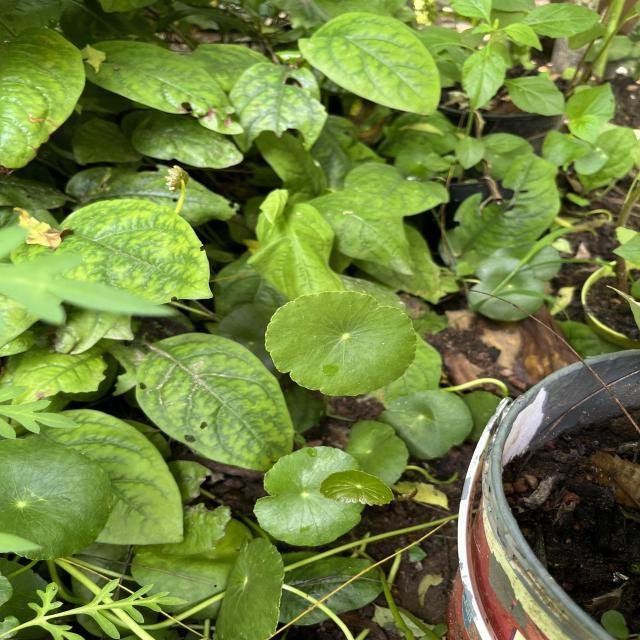Bacopa monnieri: (262, 288, 419, 398), (0, 435, 116, 563), (251, 444, 367, 548), (316, 468, 398, 508)
